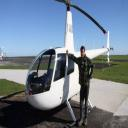helicopter: (25, 1, 116, 123)
